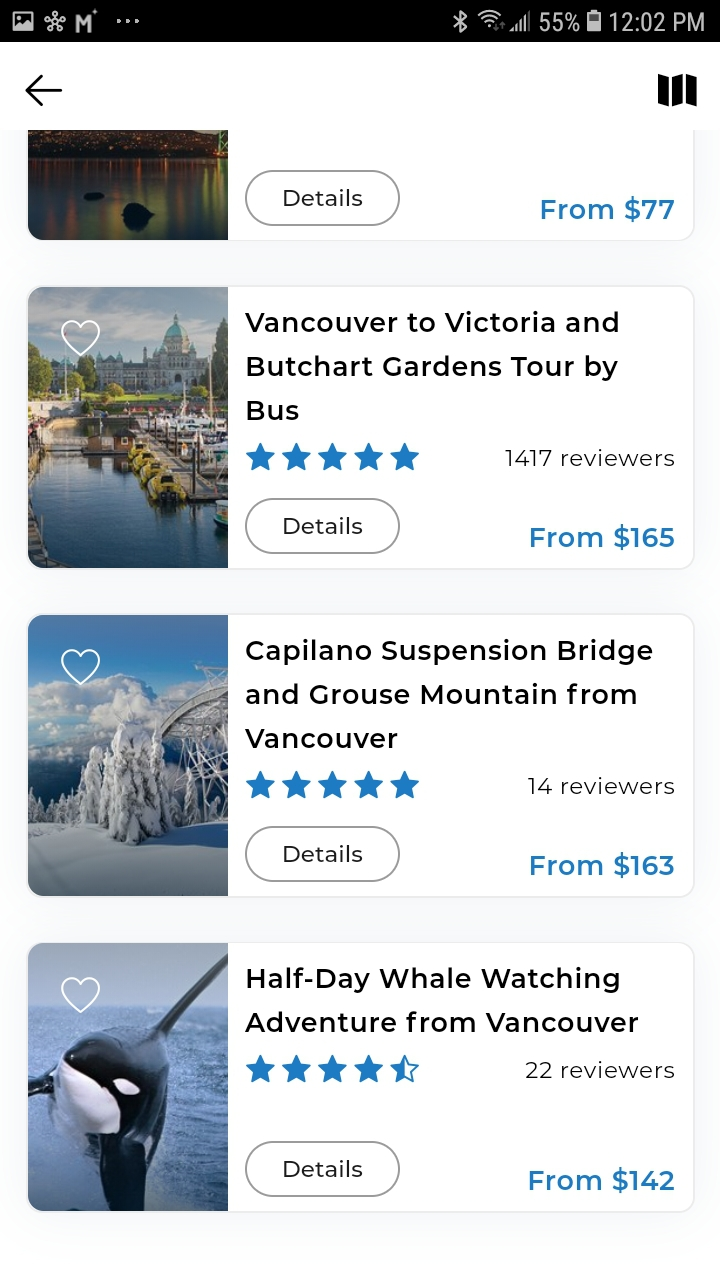Icon: (246, 443, 420, 472), (246, 770, 420, 799), (246, 1054, 420, 1083), (61, 320, 102, 358), (61, 976, 102, 1014), (61, 649, 102, 686), (657, 75, 698, 109), (25, 75, 64, 108)
Image: (29, 287, 229, 569), (29, 615, 229, 896), (29, 943, 229, 1211), (29, 131, 229, 242)
Text: (245, 639, 653, 749), (245, 310, 619, 421), (245, 966, 640, 1033), (529, 1166, 673, 1194), (530, 524, 674, 551), (530, 852, 674, 879), (541, 196, 675, 223), (505, 449, 675, 468), (525, 1059, 674, 1078), (528, 776, 675, 795)
TextButton: (244, 826, 401, 883), (245, 170, 401, 227), (245, 498, 401, 555), (245, 1141, 401, 1198)
UpperTaskBar: (1, 1, 720, 43)
